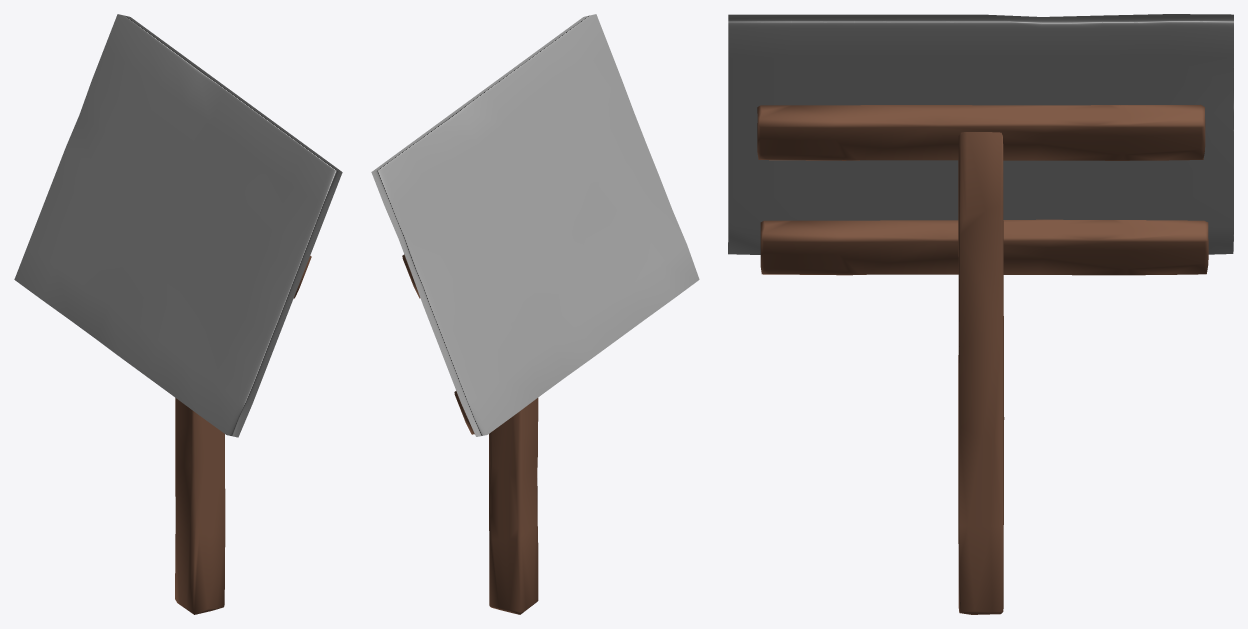
File: plaque.glb
3 renders of one model, left to right at view 1: azimuth 30°, elevation 25°; view 2: azimuth 150°, elevation 25°; view 3: azimuth 270°, elevation 25°, orthographic. The views are drawn at different scales.
Visible parts, largest first — view 1: Cube, postLp; view 2: Cube, postLp; view 3: Cube, postLp.002, postLp.003, postLp.
Part boxes in pixels (x1,y1,x2,y2): Cube: (14,14,342,437); postLp: (175,398,225,614); Cube: (371,14,699,436); postLp: (489,398,538,614); Cube: (728,14,1233,254); postLp.002: (757,104,1205,160); postLp.003: (760,219,1208,275); postLp: (958,132,1004,614).
Size of the model in its own units: 0.7619 by 3.16 by 2.39.
